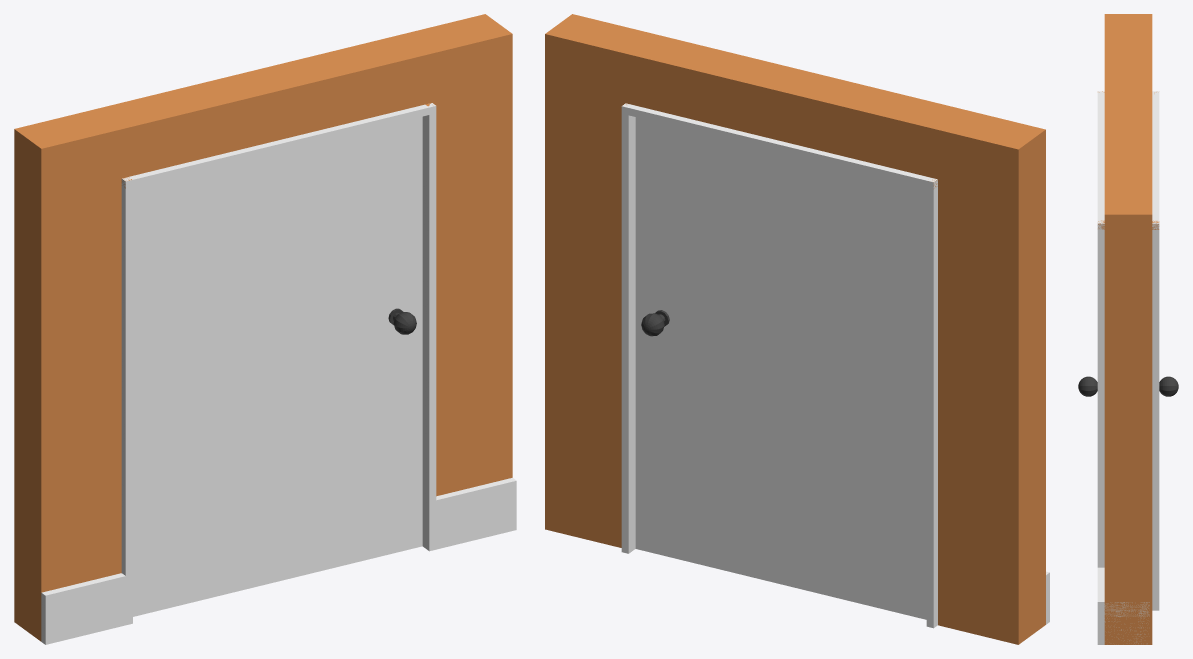
The model's file is Standard Wall - Door(5).fbx.
The picture shows the model from 3 angles, left to right: view 1: azimuth 30°, elevation 25°; view 2: azimuth 150°, elevation 25°; view 3: azimuth 270°, elevation 25°; orthographic projection. The views are drawn at different scales.
Parts seen in each view (by area): view 1: Frame, Door; view 2: Frame, Door; view 3: Frame, Door.
Part boxes in pixels (x1,y1,x2,y2): Frame: (14,14,516,644); Door: (133,116,422,616); Frame: (545,14,1049,644); Door: (635,117,926,619); Frame: (1097,14,1159,644); Door: (1078,376,1178,396).
Size of the model in its own units: 300 by 300 by 63.44.
